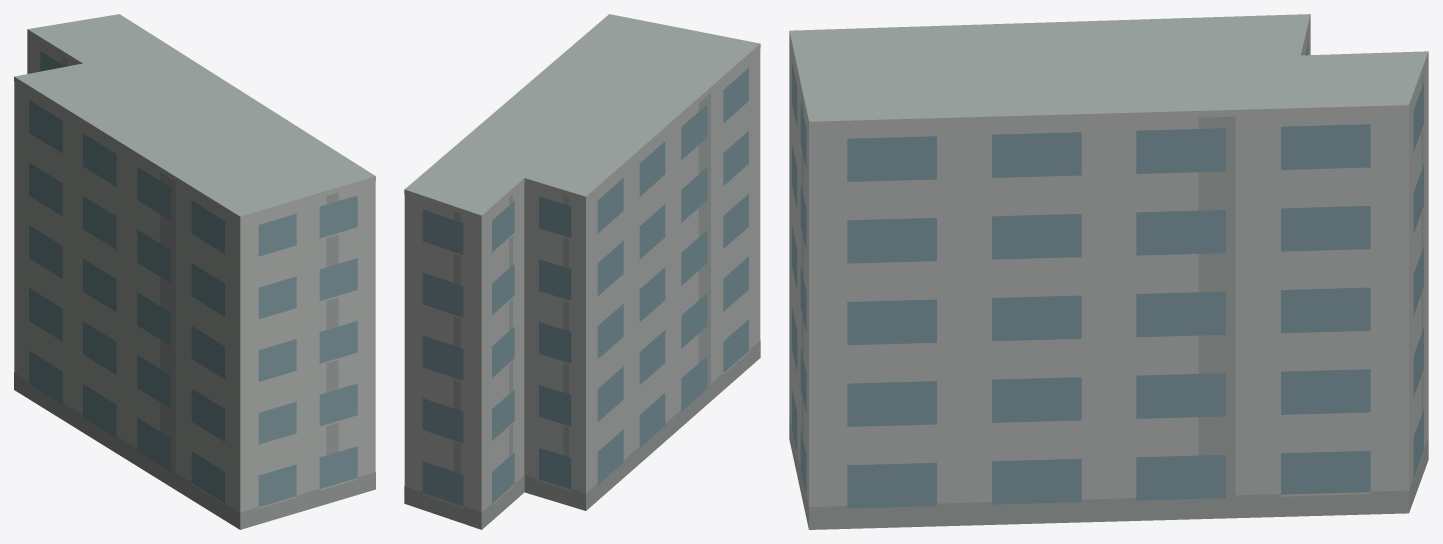
The model's file is survey-upis-33023816.glb.
The picture shows the model from 3 angles, left to right: view 1: azimuth 30°, elevation 25°; view 2: azimuth 150°, elevation 25°; view 3: azimuth 270°, elevation 25°; orthographic projection. The views are drawn at different scales.
Visible parts, largest first — view 1: survey-upis-33023816.tmp; view 2: survey-upis-33023816.tmp; view 3: survey-upis-33023816.tmp.
Boxes of the visible parts, <box> form: survey-upis-33023816.tmp: <box>14,14,375,529</box>; survey-upis-33023816.tmp: <box>404,14,760,529</box>; survey-upis-33023816.tmp: <box>789,14,1428,529</box>.
Bounding box in the file's own units: 8.32 × 14.7 × 20.87.
